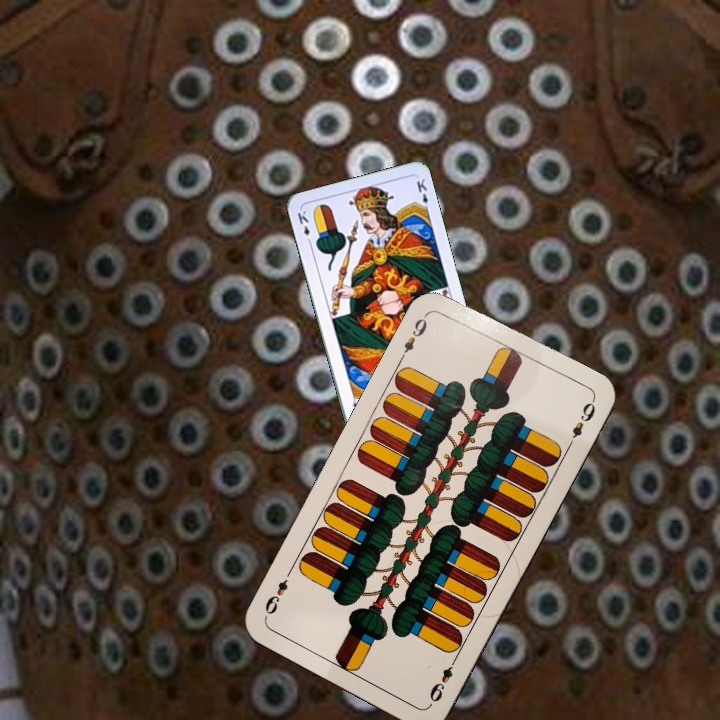E9: (425, 653, 461, 707), (396, 308, 431, 362)
EK: (293, 206, 314, 247)
